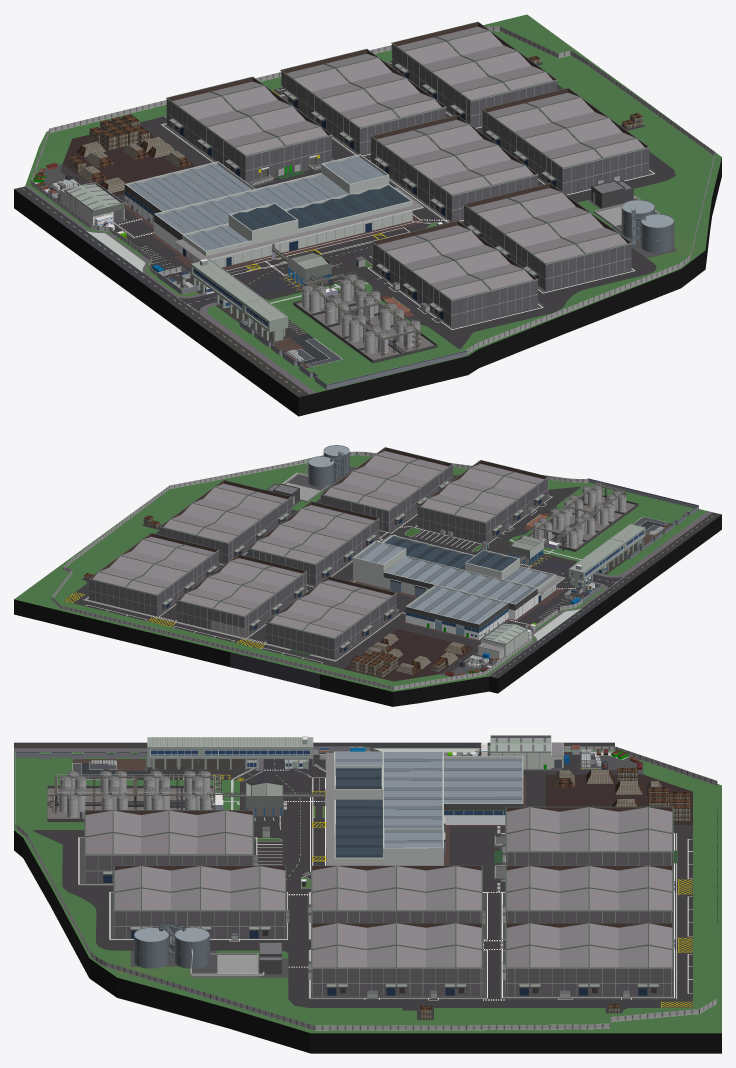
File: blythswood_esr2.glb
3 renders of one model, top to bottom at view 1: azimuth 30°, elevation 25°; view 2: azimuth 150°, elevation 25°; view 3: azimuth 270°, elevation 25°, orthographic. The views are drawn at different scales.
Visible parts, largest first — view 1: base, bina_11, yol, bina_1, bina_4, bina_5, bina_2, bina_3, bina_6, bina_7, bina_12, bina_10 (+3 smaller); view 2: base, bina_11, yol, bina_1, bina_5, bina_7, bina_6, bina_3, bina_2, bina_4, bina_12, bina_10 (+3 smaller); view 3: base, yol, bina_11, bina_4, bina_7, bina_2, bina_5, bina_3, bina_1, bina_6, bina_12, bina_10 (+3 smaller).
Part boxes in pixels (box(x1,y1,x2,y2)): base: box(14, 14, 721, 416); bina_11: box(124, 154, 423, 267); yol: box(14, 61, 675, 396); bina_1: box(371, 220, 538, 326); bina_4: box(481, 87, 649, 194); bina_5: box(166, 76, 332, 182); bina_2: box(463, 183, 632, 290); bina_3: box(370, 115, 538, 221); bina_6: box(280, 49, 446, 154); bina_7: box(391, 21, 557, 126); bina_12: box(293, 272, 437, 363); bina_10: box(190, 258, 288, 341); base: box(14, 445, 721, 706); bina_11: box(353, 535, 565, 639); yol: box(63, 475, 719, 678); bina_1: box(417, 460, 548, 542); bina_5: box(266, 576, 396, 659); bina_7: box(89, 533, 219, 616); bina_6: box(176, 554, 306, 636); bina_3: box(247, 501, 379, 585); bina_2: box(320, 447, 453, 531); bina_4: box(160, 480, 291, 563); bina_12: box(527, 481, 638, 551); bina_10: box(568, 523, 645, 588); base: box(14, 742, 721, 1053); yol: box(14, 742, 692, 1019); bina_11: box(325, 751, 523, 865); bina_4: box(308, 923, 482, 998); bina_7: box(502, 923, 673, 998); bina_2: box(113, 865, 289, 940); bina_5: box(502, 806, 673, 870); bina_3: box(308, 865, 485, 927); bina_1: box(84, 810, 257, 883); bina_6: box(502, 865, 673, 927); bina_12: box(47, 768, 221, 821); bina_10: box(147, 736, 313, 769).
Size of the model in its own units: 68.54 by 5.66 by 70.59.
Materials: 4 (4 with a texture image).
